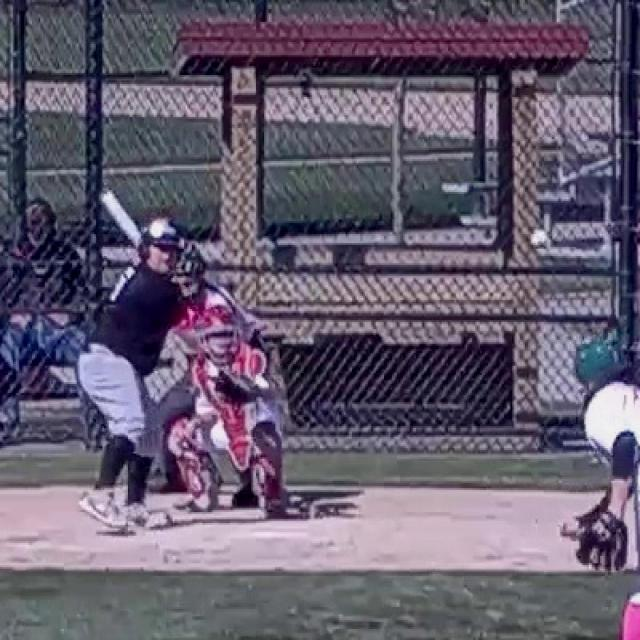baseball: (530, 230, 546, 246)
